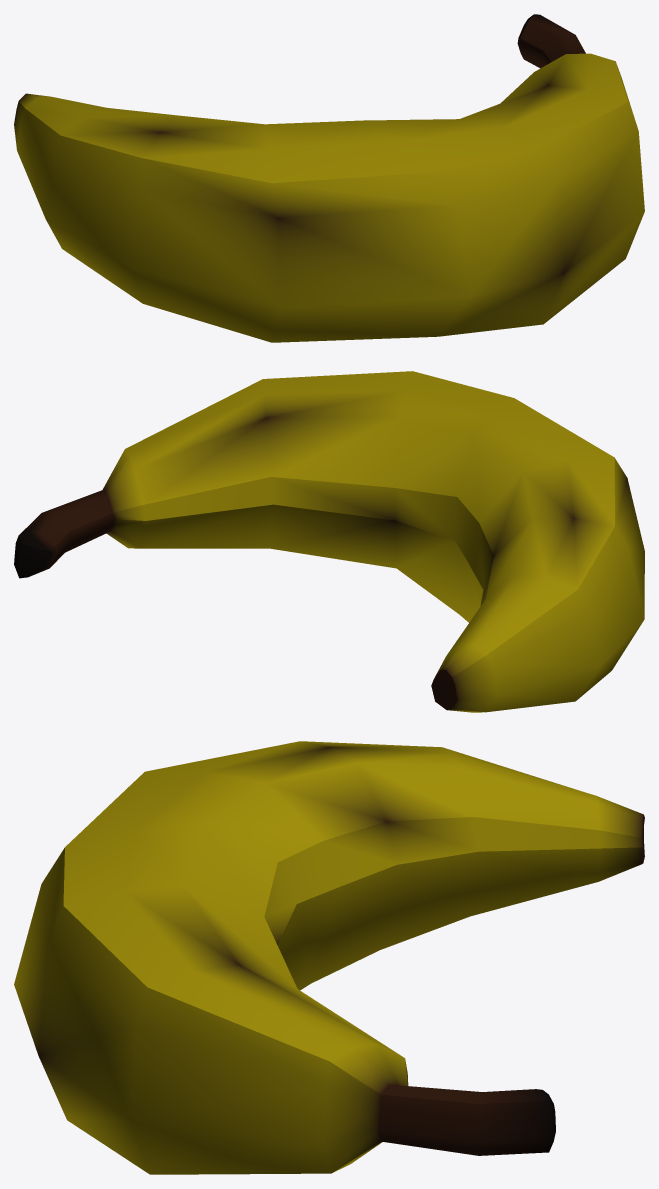
The model's file is Banana_Vert.fbx.
3 renders of one model, top to bottom at view 1: azimuth 30°, elevation 25°; view 2: azimuth 150°, elevation 25°; view 3: azimuth 270°, elevation 25°, orthographic. The views are drawn at different scales.
Visible parts, largest first — view 1: pCube14; view 2: pCube14; view 3: pCube14.
Boxes of the visible parts, bbox=[...] form: pCube14: bbox=[14, 14, 644, 342]; pCube14: bbox=[14, 371, 644, 712]; pCube14: bbox=[14, 741, 644, 1174].
Size of the model in its own units: 22.22 by 7.35 by 18.37.
